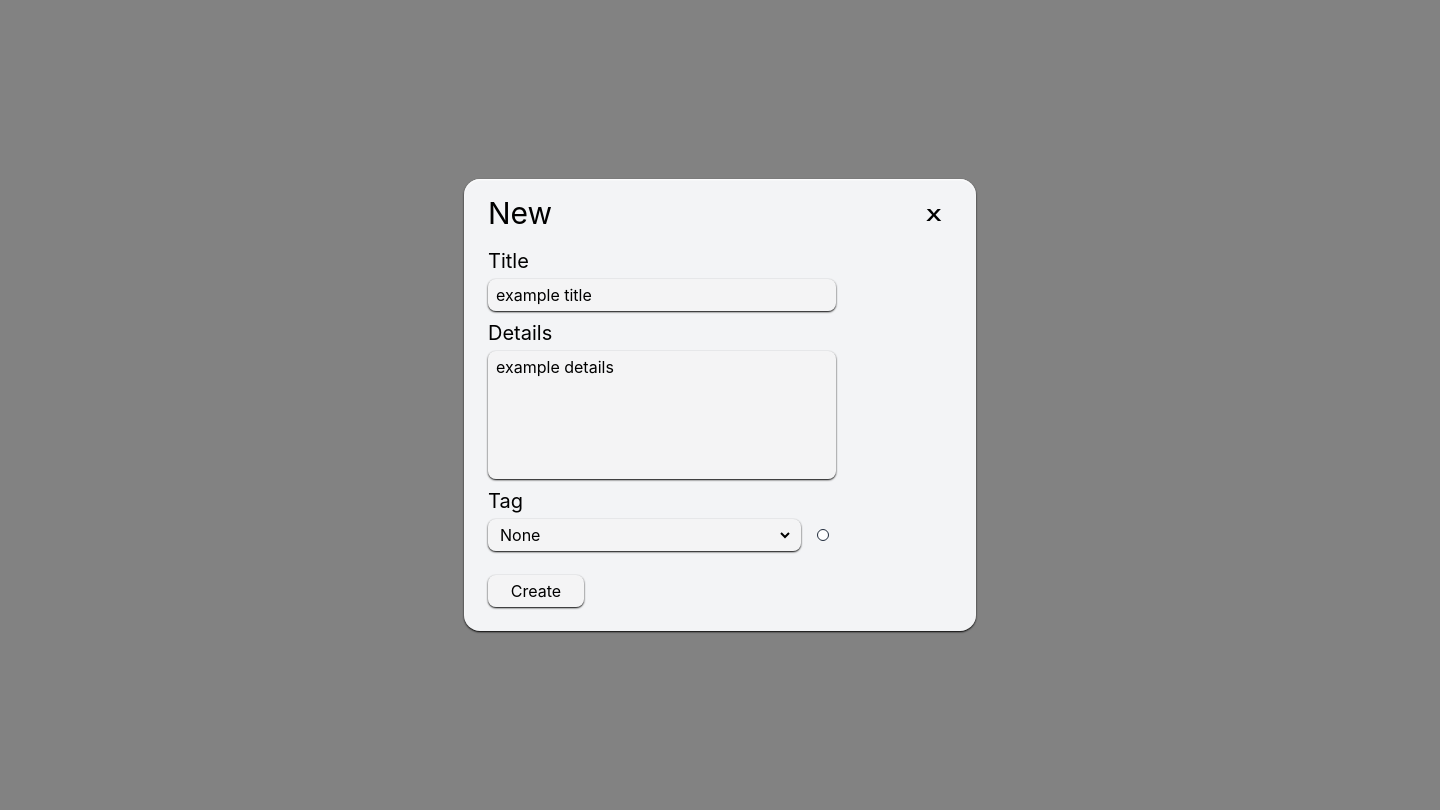
Scenario: TodoModal › changes the title value
This screenshot has width=1440, height=810.
In the field labelled "Title": (662, 295) [488,279,836,311], type "Hello"
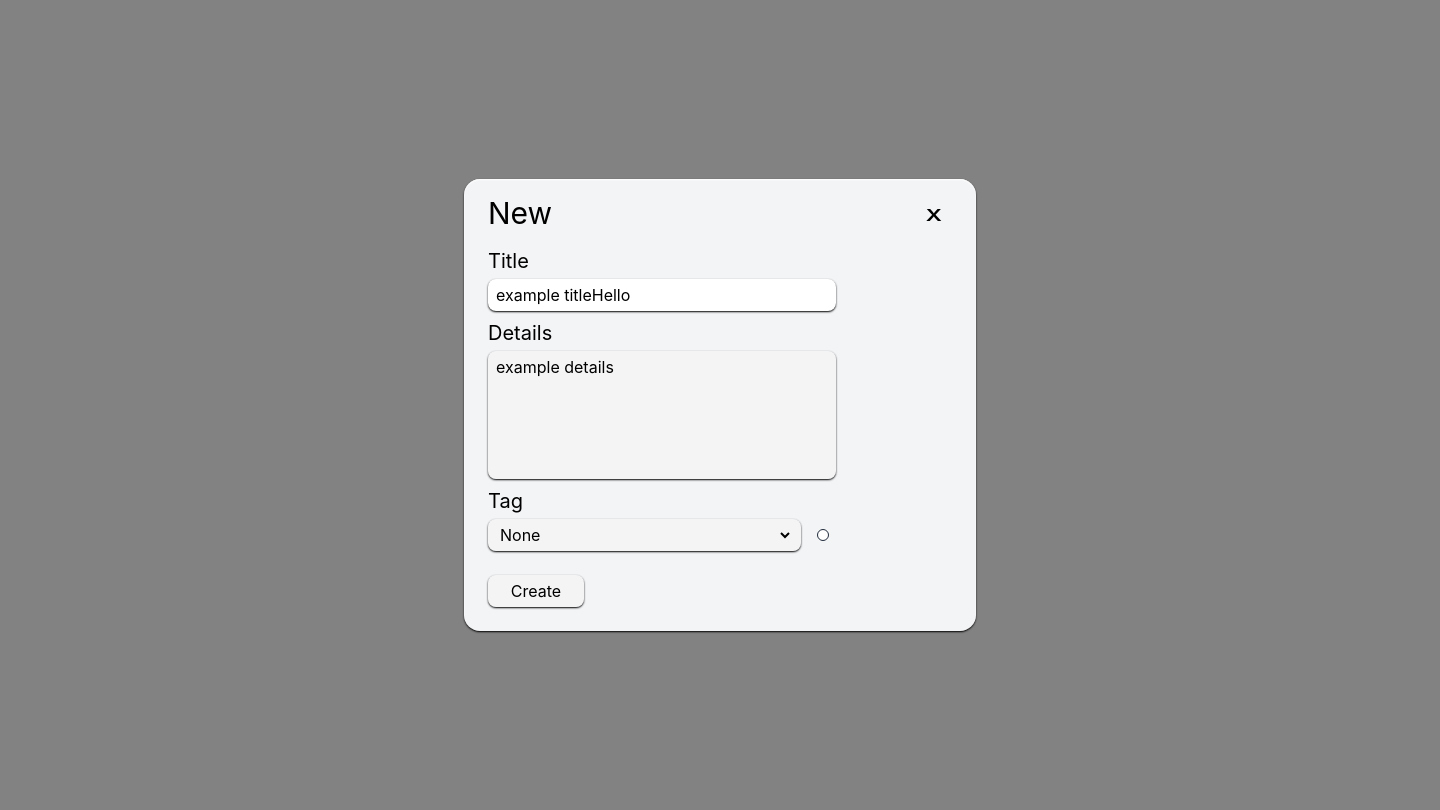
Check: the field labelled "Title" holds "example titleHello", box [488,279,836,311]
